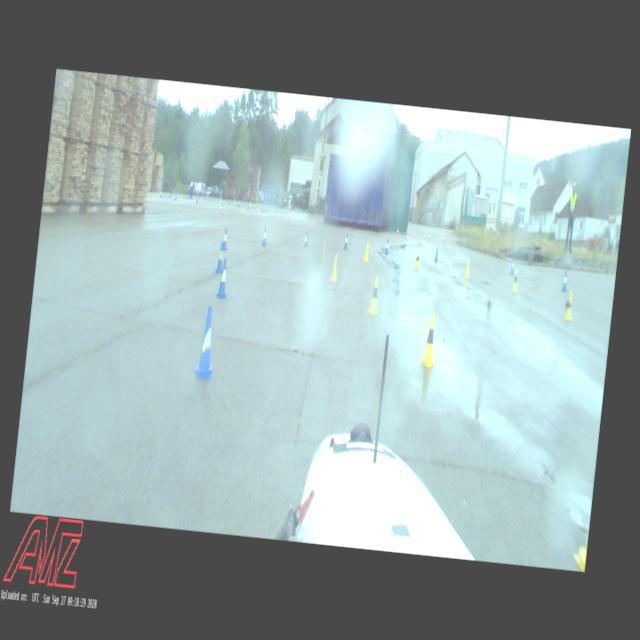blue_cone: (193, 304, 220, 380), (216, 258, 230, 298), (214, 242, 226, 273), (221, 227, 229, 250), (560, 270, 568, 292), (260, 226, 268, 246), (303, 228, 309, 246), (433, 244, 439, 262), (342, 232, 348, 248), (508, 258, 514, 274), (384, 238, 389, 254), (174, 192, 177, 200), (160, 190, 162, 198)
orange_cone: (395, 226, 399, 237), (257, 207, 261, 218), (220, 202, 223, 214), (442, 234, 446, 242), (288, 210, 291, 220), (240, 206, 243, 216), (427, 232, 430, 241), (225, 200, 228, 208), (272, 209, 274, 220), (412, 230, 414, 238)
yellow_cone: (418, 312, 441, 368), (366, 274, 382, 314), (564, 290, 576, 321), (330, 253, 340, 281), (512, 268, 520, 292), (320, 240, 328, 262), (463, 258, 471, 278), (414, 249, 421, 269), (363, 242, 370, 262), (180, 191, 183, 198), (233, 198, 236, 205), (154, 190, 156, 198), (256, 203, 258, 210), (250, 200, 252, 207), (200, 194, 202, 200)
